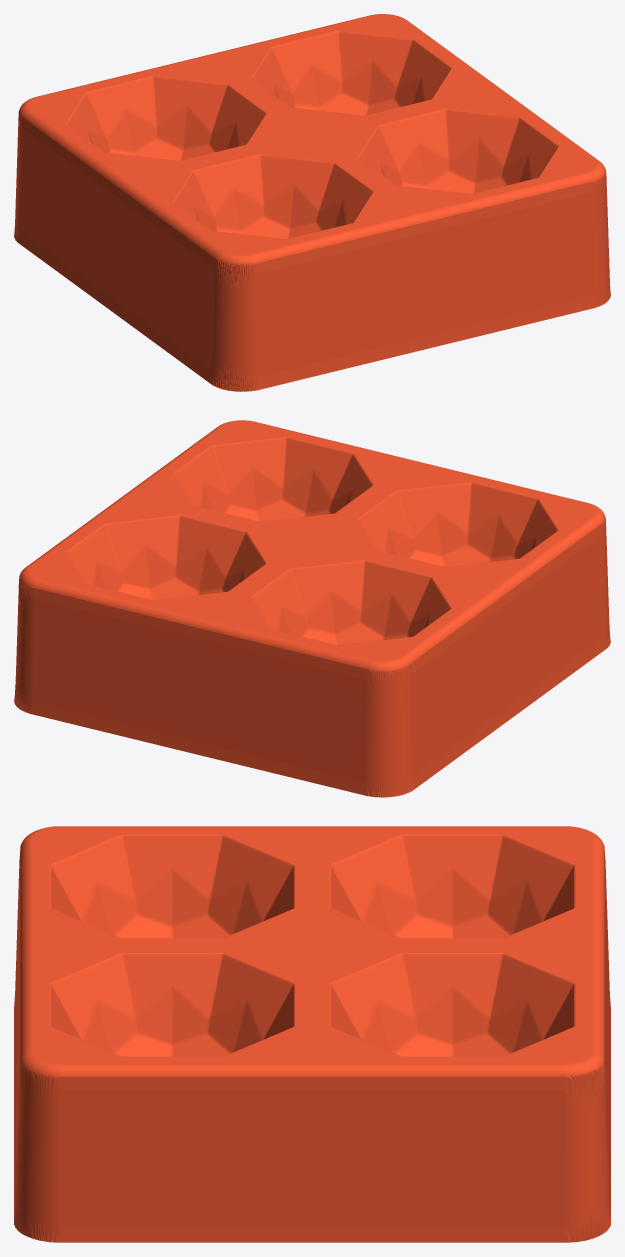
The model's file is mold.glb.
The picture shows the model from 3 angles, top to bottom: view 1: azimuth 30°, elevation 25°; view 2: azimuth 150°, elevation 25°; view 3: azimuth 270°, elevation 25°; orthographic projection. The views are drawn at different scales.
Visible parts, largest first — view 1: geometry_0; view 2: geometry_0; view 3: geometry_0.
Part boxes in pixels (x1=…): geometry_0: x1=14, y1=14, x2=610, y2=391; geometry_0: x1=14, y1=420, x2=610, y2=797; geometry_0: x1=14, y1=826, x2=610, y2=1242.
Size of the model in its own units: 0.115 by 0.0363 by 0.115.
